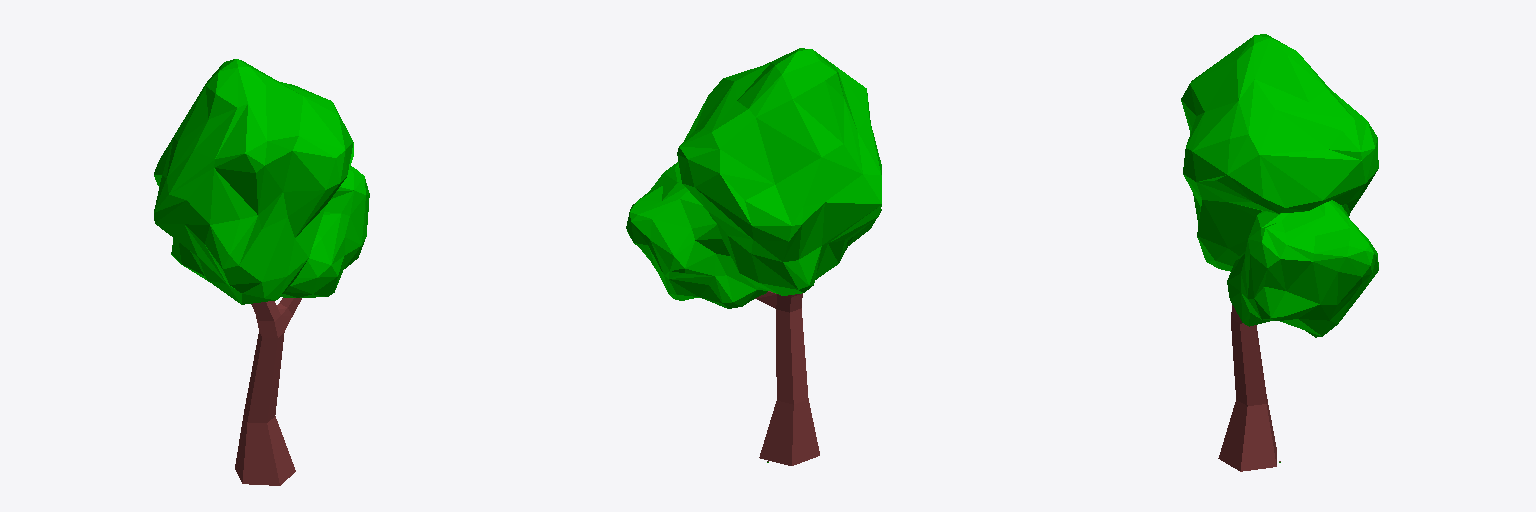
3 renders of one model, left to right at view 1: azimuth 30°, elevation 25°; view 2: azimuth 150°, elevation 25°; view 3: azimuth 270°, elevation 25°, orthographic.
Visible parts, largest first — view 1: SM_Env_Tree_06; view 2: SM_Env_Tree_06; view 3: SM_Env_Tree_06.
Part boxes in pixels (x1,y1,x2,y2): SM_Env_Tree_06: (154, 59, 369, 485); SM_Env_Tree_06: (626, 48, 881, 465); SM_Env_Tree_06: (1181, 34, 1378, 471).
Bounding box in the file's own units: 320 × 584 × 254.
1 materials, 1 textured.